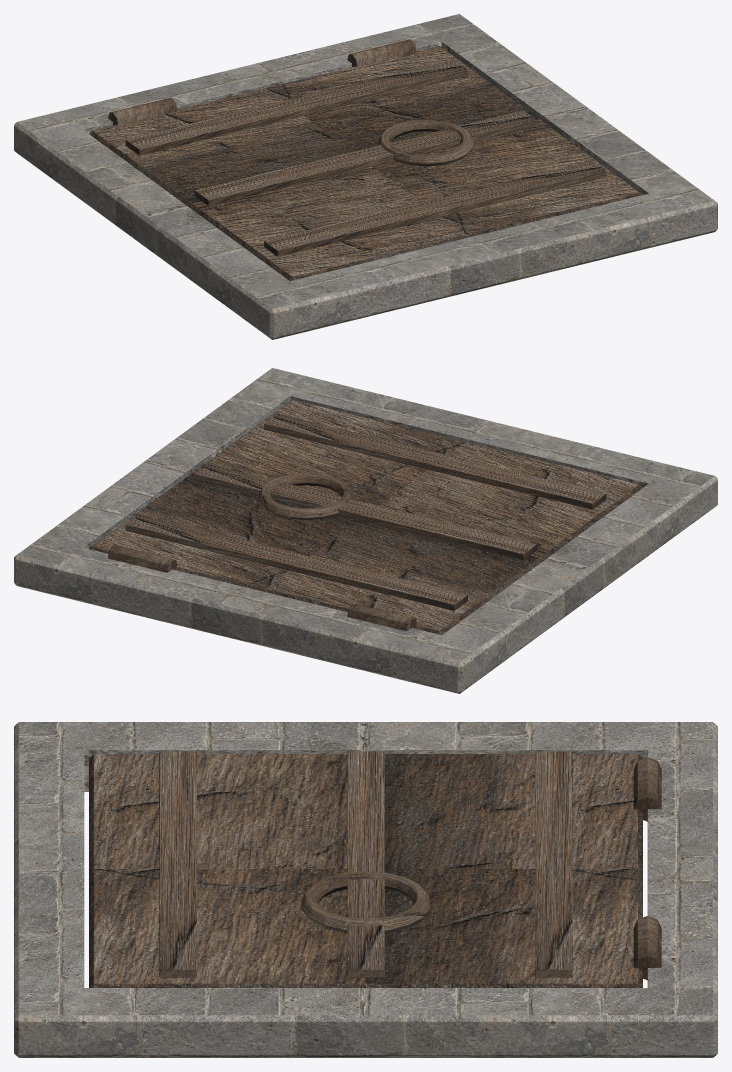
File: iron-trapdoor-v01.glb
The picture shows the model from 3 angles, top to bottom: view 1: azimuth 30°, elevation 25°; view 2: azimuth 150°, elevation 25°; view 3: azimuth 270°, elevation 25°; orthographic projection. The views are drawn at different scales.
Parts seen in each view (by area): view 1: iron-trapdoor; view 2: iron-trapdoor; view 3: iron-trapdoor.
Part boxes in pixels (<box>): iron-trapdoor: <box>14,14,717,339</box>; iron-trapdoor: <box>14,368,717,693</box>; iron-trapdoor: <box>14,722,717,1057</box>.
Bounding box in the file's own units: 1.5 × 0.1297 × 1.5.
3 materials, 3 textured.
